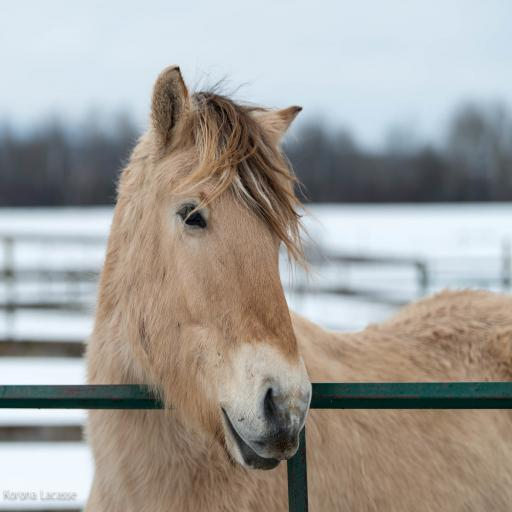horse: (82, 65, 512, 512)
